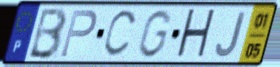B: (26, 6, 69, 62)
C: (101, 8, 140, 59)
G: (135, 8, 173, 60)
H: (173, 7, 218, 61)
J: (214, 10, 248, 60)
P: (58, 8, 99, 59)
